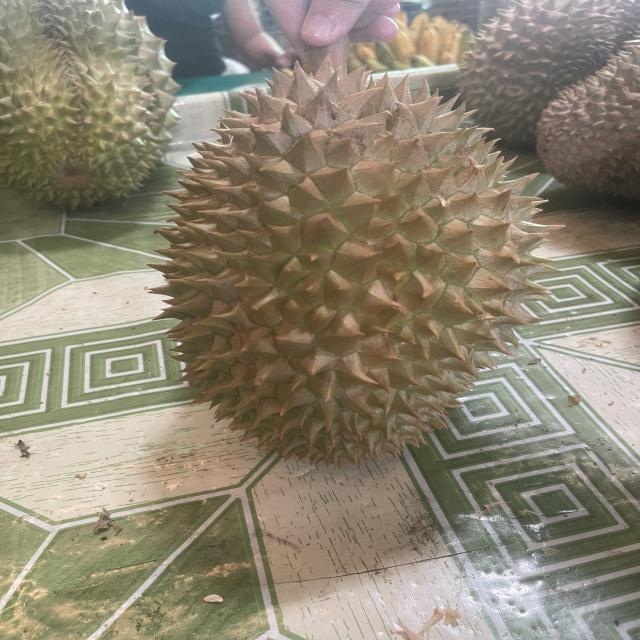mature: (161, 58, 545, 497), (0, 0, 172, 203), (446, 5, 636, 141), (540, 33, 640, 207)
